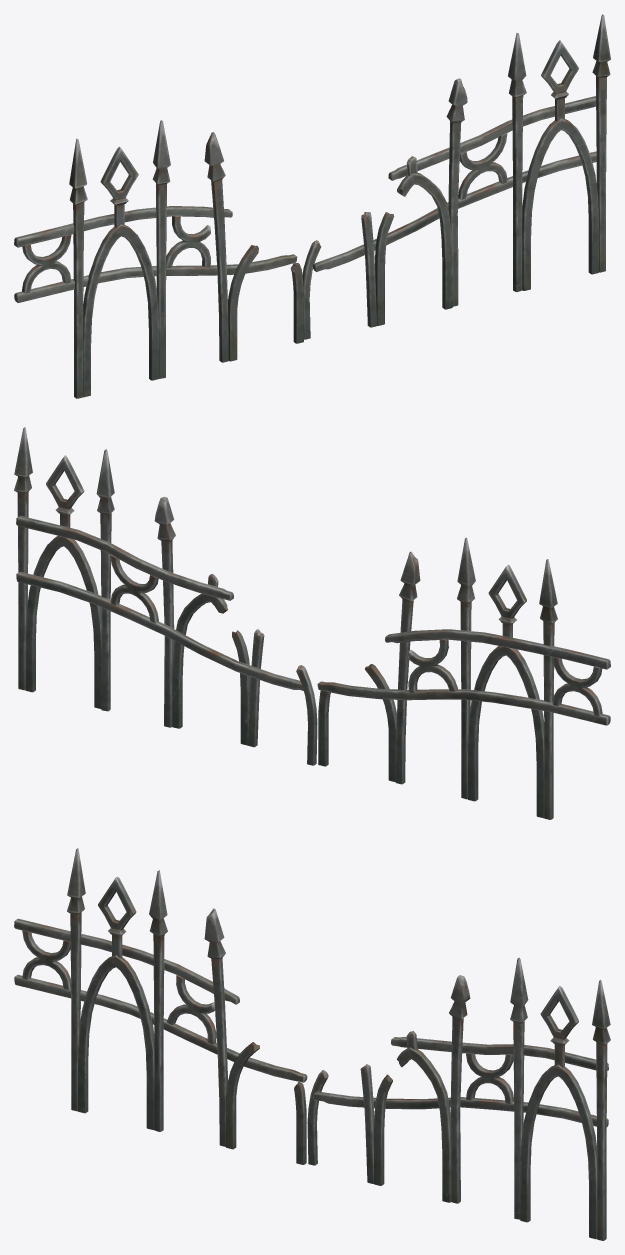
The picture shows the model from 3 angles, top to bottom: view 1: azimuth 30°, elevation 25°; view 2: azimuth 150°, elevation 25°; view 3: azimuth 330°, elevation 25°; orthographic projection.
Visible parts, largest first — view 1: SM_Iron_Fence_01v5_LOD0; view 2: SM_Iron_Fence_01v5_LOD0; view 3: SM_Iron_Fence_01v5_LOD0.
Part boxes in pixels (x1,y1,x2,y2): SM_Iron_Fence_01v5_LOD0: (14, 14, 610, 398); SM_Iron_Fence_01v5_LOD0: (14, 427, 610, 819); SM_Iron_Fence_01v5_LOD0: (14, 848, 610, 1240).
Size of the model in its own units: 4.05 by 1.69 by 0.1406.
Materials: 1 (1 with a texture image).
